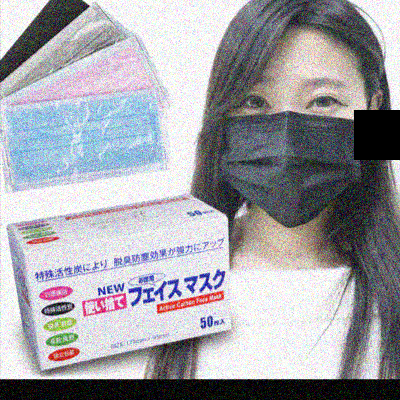with_mask: (216, 71, 372, 230)
